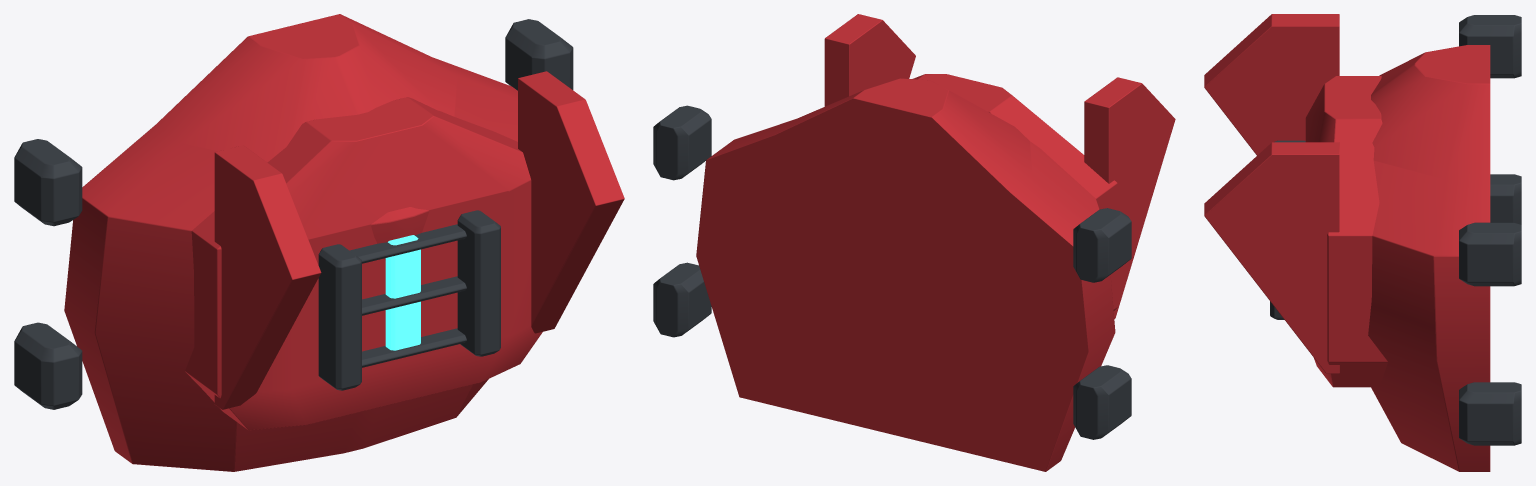
Rendered from ShoulderFront_Set03_Overclock.fbx.
3 views of the same model, side by side, from view 1: azimuth 30°, elevation 25°; view 2: azimuth 150°, elevation 25°; view 3: azimuth 270°, elevation 25° (orthographic). The views are drawn at different scales.
Parts seen in each view (by area): view 1: ShoulderFront_Set03_Overclock; view 2: ShoulderFront_Set03_Overclock; view 3: ShoulderFront_Set03_Overclock.
Boxes of the visible parts, x1,y1,x2,y2 form: ShoulderFront_Set03_Overclock: (14,14,624,471); ShoulderFront_Set03_Overclock: (653,14,1175,471); ShoulderFront_Set03_Overclock: (1204,14,1521,471).
Bounding box in the file's own units: 0.51 × 0.35 × 0.3034.
